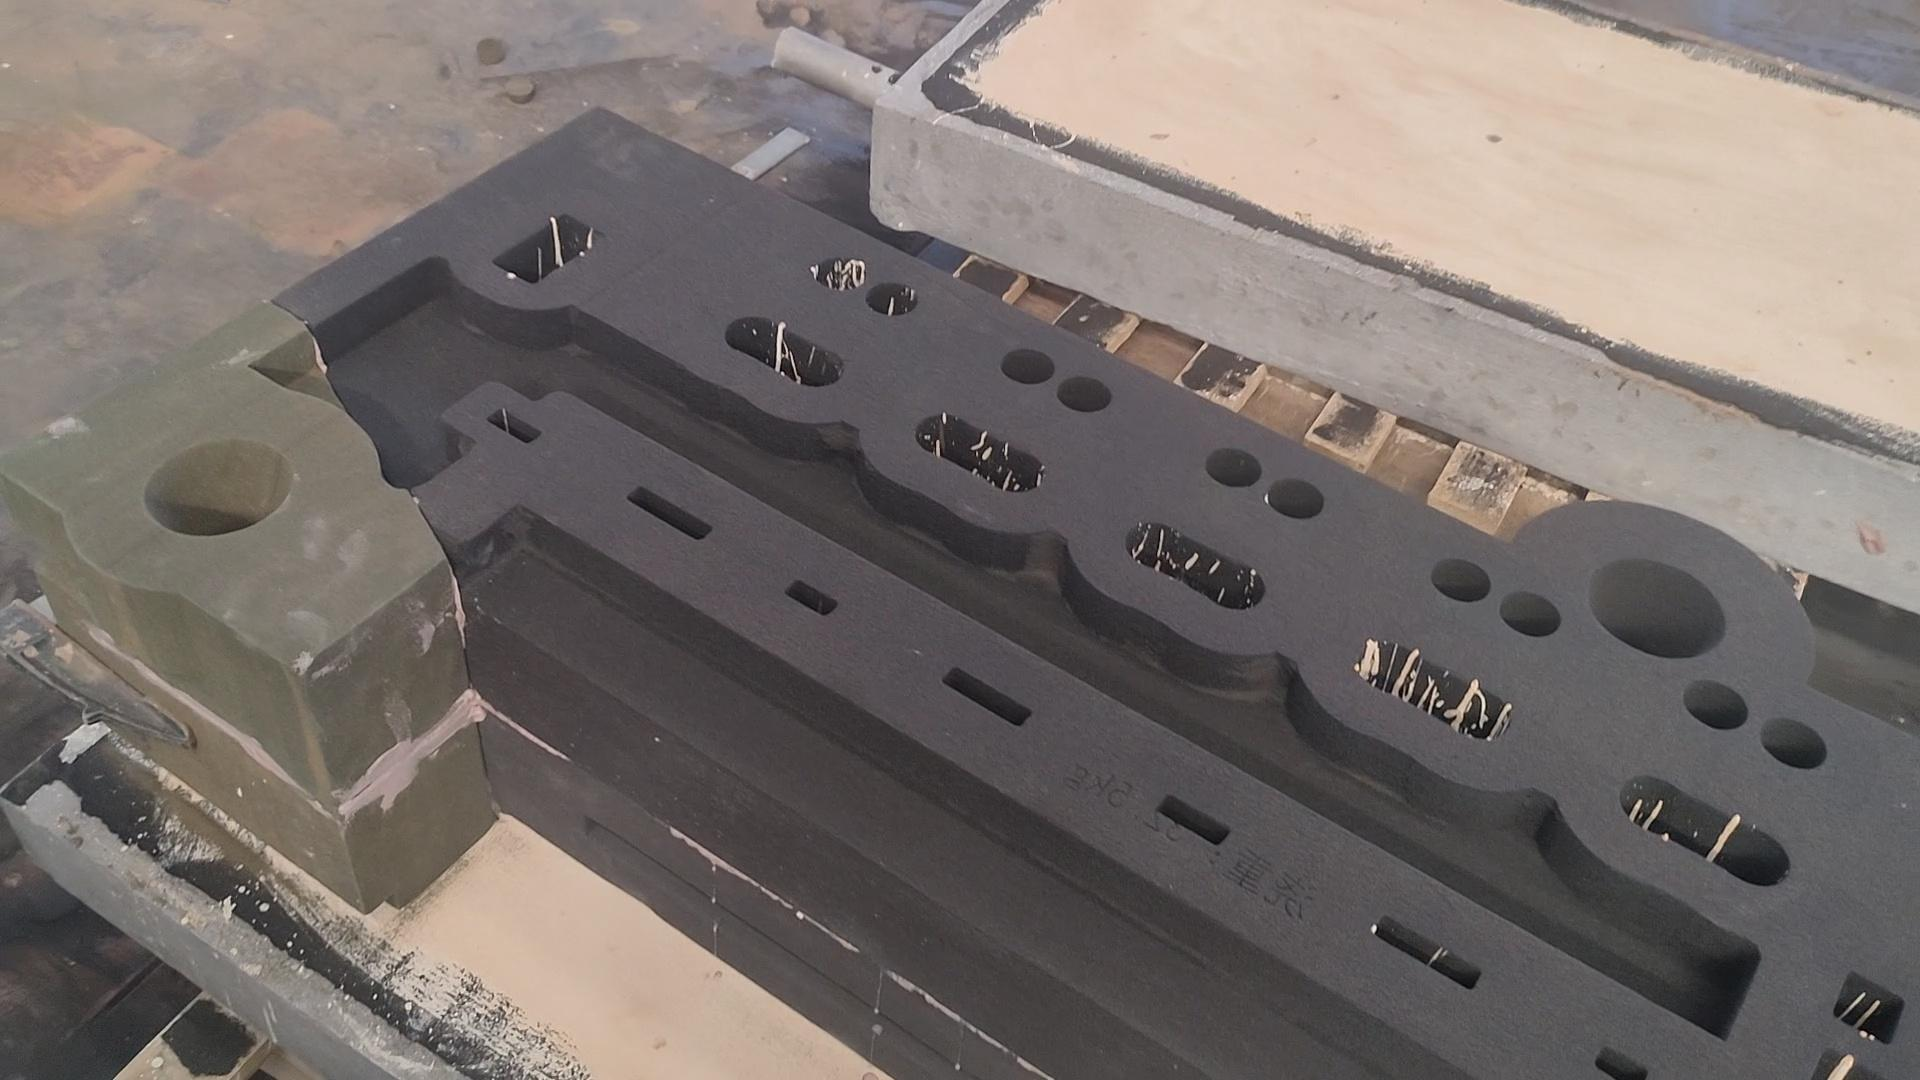pouring hole: (142, 438, 295, 537), (1586, 556, 1727, 661)
